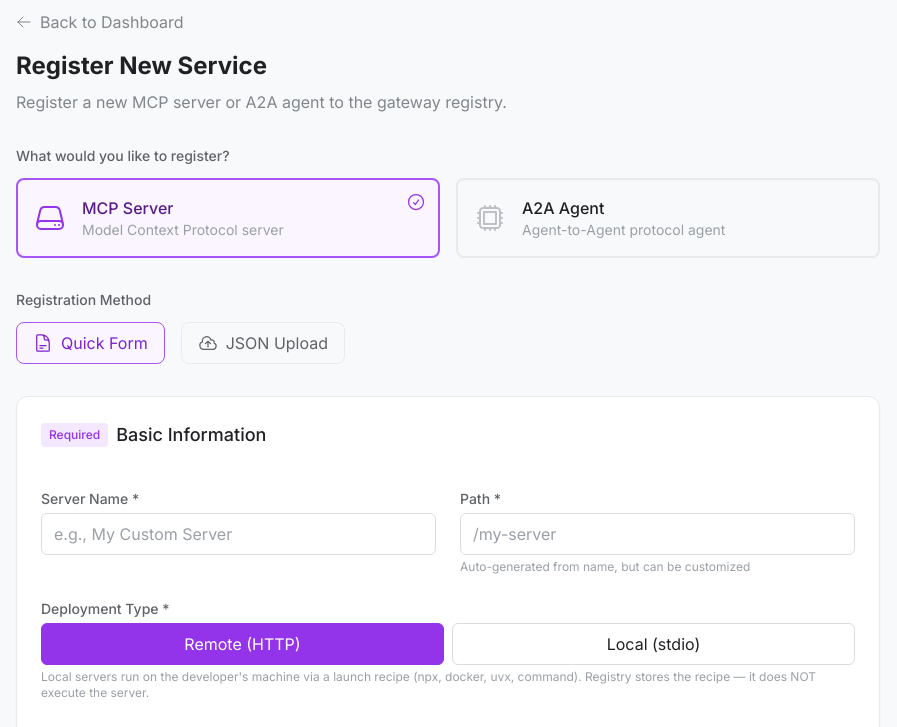
Test: RegisterPage › switches to the agent form when the Agent tab is selected
// Click the Agent registration-type tab.
What coordinates should you click on to do the following:
click the text "A2A Agent"
I would click on:
 (563, 208)
Its box is [522,198,604,218].
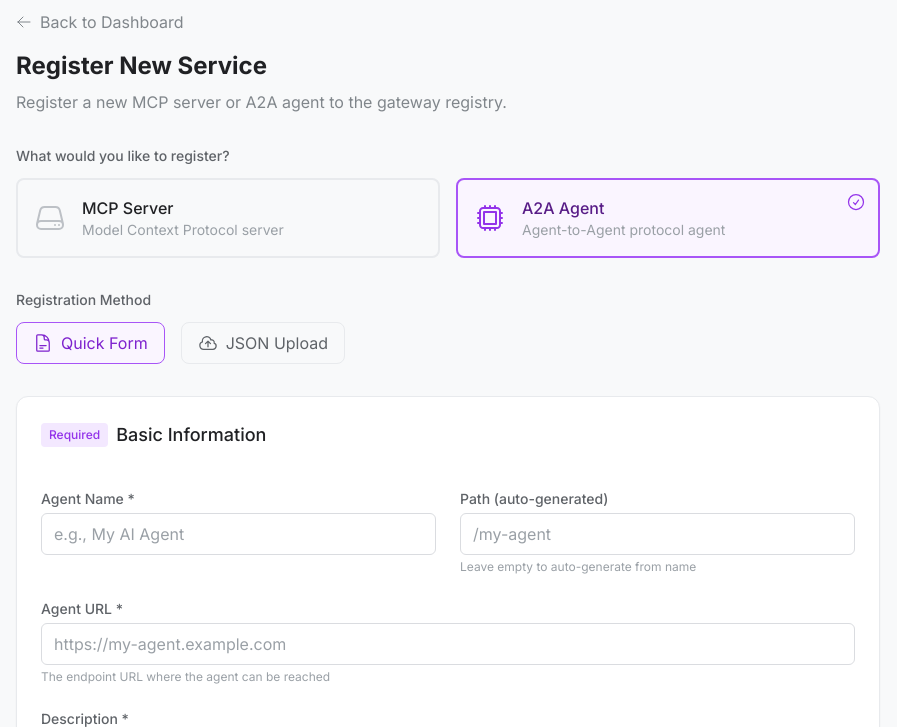
Expected: the text "Agent Name *" is shown, [41,490,135,507]
